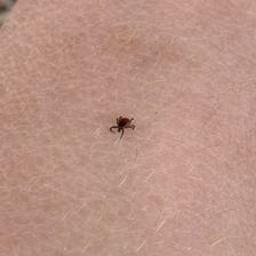Ixodes scapularis: (109, 117, 136, 140)
